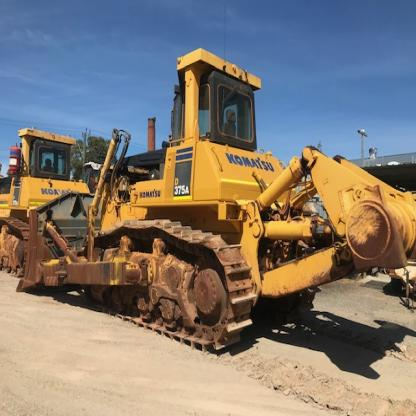bull_dozer/loader/grader: (13, 40, 408, 354)
